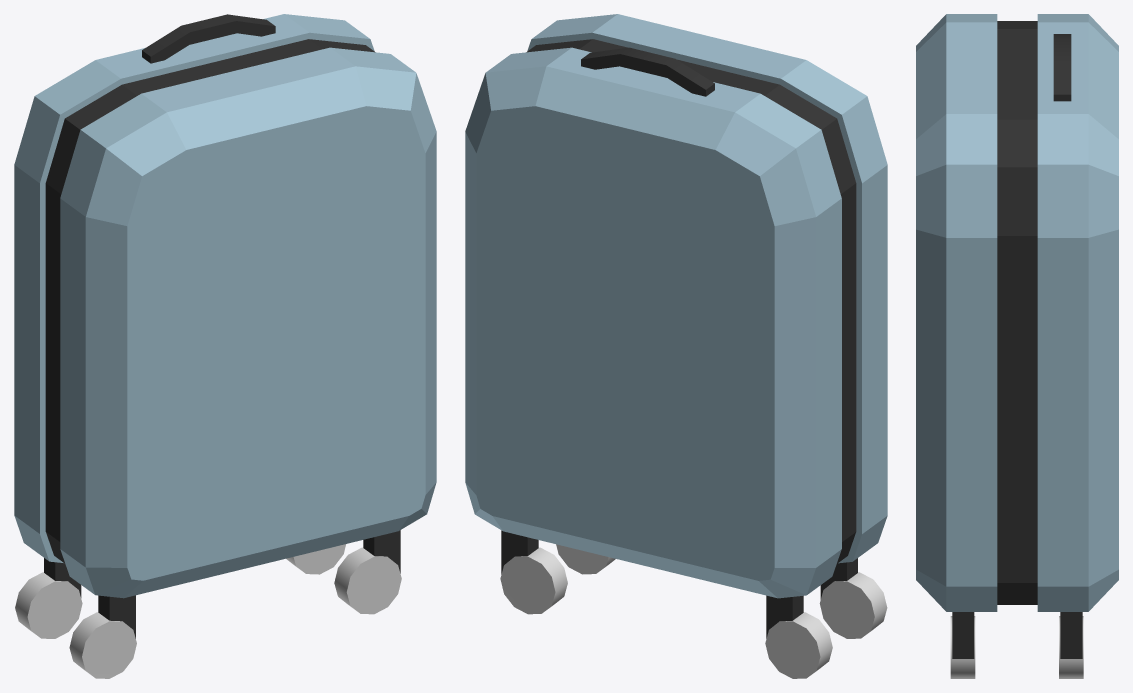
The model's file is Grande_Valise_Bleue.fbx.
3 renders of one model, left to right at view 1: azimuth 30°, elevation 25°; view 2: azimuth 150°, elevation 25°; view 3: azimuth 270°, elevation 25°, orthographic.
Visible parts, largest first — view 1: Grande_Valise_Bleue; view 2: Grande_Valise_Bleue; view 3: Grande_Valise_Bleue.
Boxes of the visible parts, x1,y1,x2,y2 form: Grande_Valise_Bleue: (14, 14, 436, 678); Grande_Valise_Bleue: (465, 14, 887, 678); Grande_Valise_Bleue: (916, 14, 1118, 678).
Size of the model in its own units: 72.99 by 114 by 36.55.
Materials: 1 (1 with a texture image).
